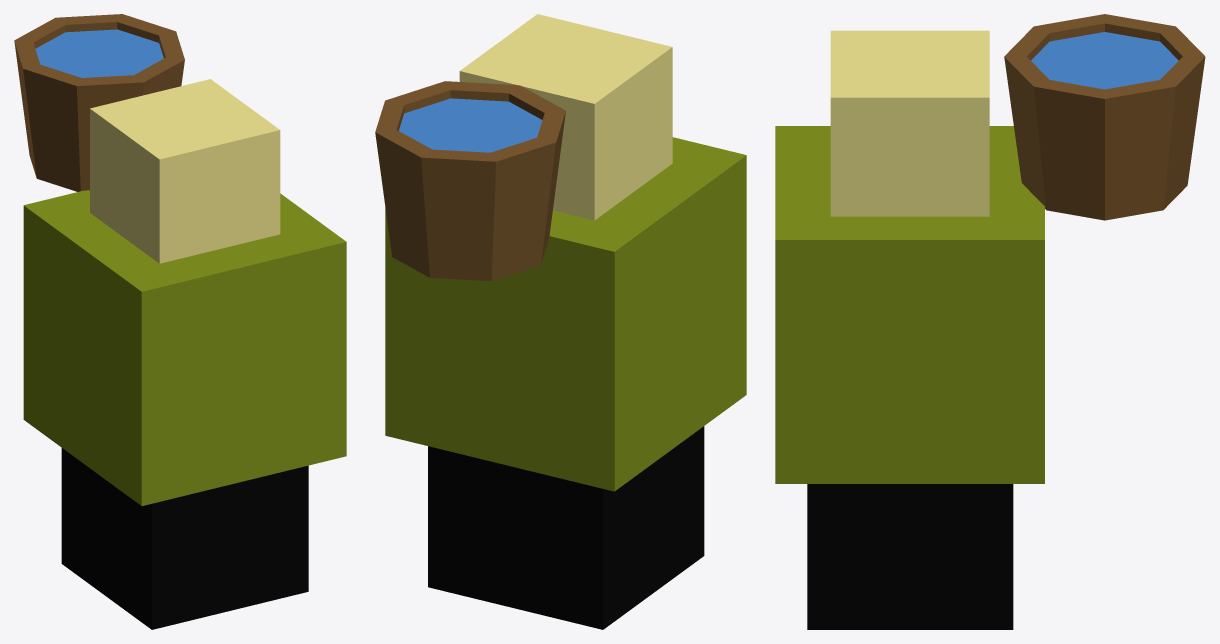
File: personFireFighter.fbx
3 views of the same model, side by side, from view 1: azimuth 30°, elevation 25°; view 2: azimuth 150°, elevation 25°; view 3: azimuth 270°, elevation 25° (orthographic). The views are drawn at different scales.
Visible parts, largest first — view 1: personFireFighter; view 2: personFireFighter; view 3: personFireFighter.
Part boxes in pixels (bbox=[...]): personFireFighter: bbox=[14, 14, 346, 629]; personFireFighter: bbox=[375, 14, 746, 629]; personFireFighter: bbox=[775, 14, 1205, 629].
Size of the model in its own units: 0.0986 by 0.2139 by 0.1573.
